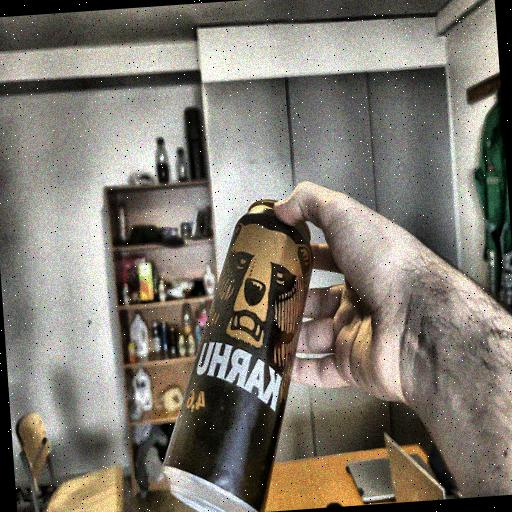karhu: (141, 190, 340, 512)
